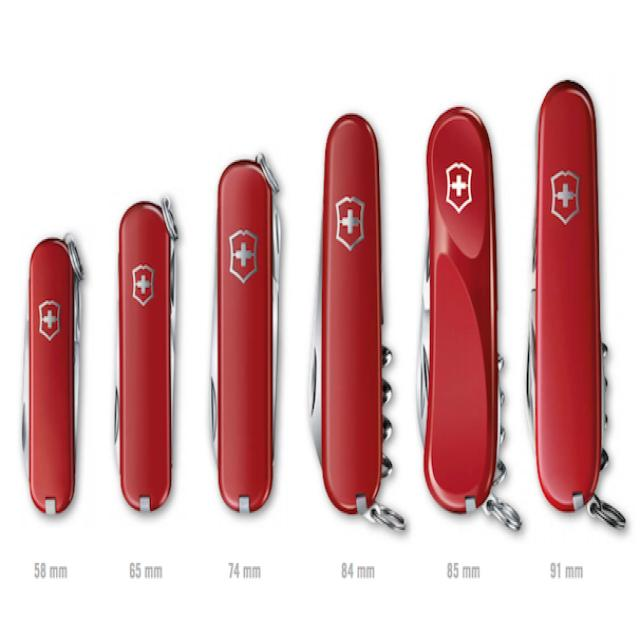knife victorinox: (309, 115, 403, 528)
